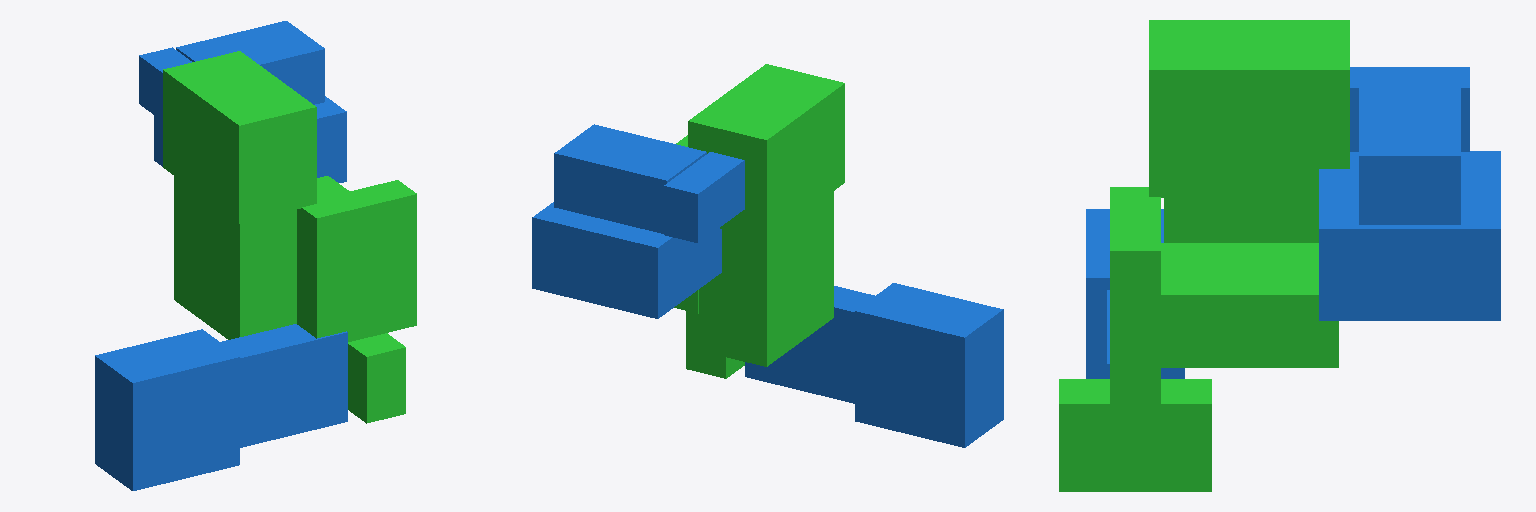
URDF robot description (robot):
<robot name = "robot">
    <link name="Link0">
        <inertial>
            <origin xyz="0 0 2" rpy="0 0 0"/>
            <mass value="0.5128304078562345" />
            <inertia ixx="100" ixy="0" ixz="0" iyy="100" iyz="0" izz="100" />
        </inertial>
        <visual>
            <origin xyz="0 0 2" rpy="0 0 0"/>
            <geometry>
                <box size="0.9570551786748137 0.5830084769159914 0.91909821232701" />
            </geometry>
            <material name="No Sensor">
                <color rgba="0.184 0.553 0.933 1.0"/>
            </material>
        </visual>
        <collision>
            <origin xyz="0 0 2" rpy="0 0 0"/>
            <geometry>
                <box size="0.9570551786748137 0.5830084769159914 0.91909821232701" />
            </geometry>
        </collision>
    </link>
    <joint name="Link0_Link1" type="revolute">
       <parent link="Link0"/>
       <child  link="Link1"/>
       <origin rpy="0 0 0" xyz="0.47852758933740686 0 2" />
       <axis xyz="1 0 0"/>
       <limit effort="0.0" lower="-3.14159" upper="3.14159" velocity="0.0"/>
    </joint>
    <link name="Link1">
        <inertial>
            <origin xyz="0.5147755440734005 0 0" rpy="0 0 0"/>
            <mass value="0.2635844339542847" />
            <inertia ixx="100" ixy="0" ixz="0" iyy="100" iyz="0" izz="100" />
        </inertial>
        <visual>
            <origin xyz="0.5147755440734005 0 0" rpy="0 0 0"/>
            <geometry>
                <box size="1.029551088146801 0.33657611869611215 0.7606564625707463" />
            </geometry>
            <material name="No Sensor">
                <color rgba="0.184 0.553 0.933 1.0"/>
            </material>
        </visual>
        <collision>
            <origin xyz="0.5147755440734005 0 0" rpy="0 0 0"/>
            <geometry>
                <box size="1.029551088146801 0.33657611869611215 0.7606564625707463" />
            </geometry>
        </collision>
    </link>
    <joint name="Link1_Link2" type="revolute">
       <parent link="Link1"/>
       <child  link="Link2"/>
       <origin rpy="0 0 0" xyz="1.029551088146801 0.0 0.0" />
       <axis xyz="0 0 1"/>
       <limit effort="0.0" lower="-3.14159" upper="3.14159" velocity="0.0"/>
    </joint>
    <link name="Link2">
        <inertial>
            <origin xyz="0.17683718103195284 0.0 0.0" rpy="0 0 0"/>
            <mass value="0.1798941925775253" />
            <inertia ixx="100" ixy="0" ixz="0" iyy="100" iyz="0" izz="100" />
        </inertial>
        <visual>
            <origin xyz="0.17683718103195284 0.0 0.0" rpy="0 0 0"/>
            <geometry>
                <box size="0.3536743620639057 0.8994615057501819 0.5654978825073803" />
            </geometry>
            <material name="Sensor">
                <color rgba="0.239 0.875 0.282 1.0"/>
            </material>
        </visual>
        <collision>
            <origin xyz="0.17683718103195284 0.0 0.0" rpy="0 0 0"/>
            <geometry>
                <box size="0.3536743620639057 0.8994615057501819 0.5654978825073803" />
            </geometry>
        </collision>
    </link>
    <joint name="Link2_Link3" type="revolute">
       <parent link="Link2"/>
       <child  link="Link3"/>
       <origin rpy="0 0 0" xyz="0.17683718103195284 0.0 0.28274894125369016" />
       <axis xyz="0 1 0"/>
       <limit effort="0.0" lower="-3.14159" upper="3.14159" velocity="0.0"/>
    </joint>
    <link name="Link3">
        <inertial>
            <origin xyz="0.0 0.0 0.5584981985100145" rpy="0 0 0"/>
            <mass value="0.2979679032425855" />
            <inertia ixx="100" ixy="0" ixz="0" iyy="100" iyz="0" izz="100" />
        </inertial>
        <visual>
            <origin xyz="0.0 0.0 0.5584981985100145" rpy="0 0 0"/>
            <geometry>
                <box size="0.893501190424533 0.2985537820684181 1.116996397020029" />
            </geometry>
            <material name="Sensor">
                <color rgba="0.239 0.875 0.282 1.0"/>
            </material>
        </visual>
        <collision>
            <origin xyz="0.0 0.0 0.5584981985100145" rpy="0 0 0"/>
            <geometry>
                <box size="0.893501190424533 0.2985537820684181 1.116996397020029" />
            </geometry>
        </collision>
    </link>
    <joint name="Link3_Link4" type="revolute">
       <parent link="Link3"/>
       <child  link="Link4"/>
       <origin rpy="0 0 0" xyz="0.0 0.14927689103420905 0.5584981985100145" />
       <axis xyz="1 0 0"/>
       <limit effort="0.0" lower="-3.14159" upper="3.14159" velocity="0.0"/>
    </joint>
    <link name="Link4">
        <inertial>
            <origin xyz="0.0 0.5217765943137762 0.0" rpy="0 0 0"/>
            <mass value="0.3621835287562734" />
            <inertia ixx="100" ixy="0" ixz="0" iyy="100" iyz="0" izz="100" />
        </inertial>
        <visual>
            <origin xyz="0.0 0.5217765943137762 0.0" rpy="0 0 0"/>
            <geometry>
                <box size="0.7281592550120661 1.0435531886275524 0.47663697816785" />
            </geometry>
            <material name="Sensor">
                <color rgba="0.239 0.875 0.282 1.0"/>
            </material>
        </visual>
        <collision>
            <origin xyz="0.0 0.5217765943137762 0.0" rpy="0 0 0"/>
            <geometry>
                <box size="0.7281592550120661 1.0435531886275524 0.47663697816785" />
            </geometry>
        </collision>
    </link>
    <joint name="Link4_Link5" type="revolute">
       <parent link="Link4"/>
       <child  link="Link5"/>
       <origin rpy="0 0 0" xyz="-0.36407962750603307 0.5217765943137762 0.0" />
       <axis xyz="1 0 0"/>
       <limit effort="0.0" lower="-3.14159" upper="3.14159" velocity="0.0"/>
    </joint>
    <link name="Link5">
        <inertial>
            <origin xyz="-0.2924868711264664 0.0 0.0" rpy="0 0 0"/>
            <mass value="0.6543647797559742" />
            <inertia ixx="100" ixy="0" ixz="0" iyy="100" iyz="0" izz="100" />
        </inertial>
        <visual>
            <origin xyz="-0.2924868711264664 0.0 0.0" rpy="0 0 0"/>
            <geometry>
                <box size="0.5849737422529327 1.0137749232114304 1.1034229165541922" />
            </geometry>
            <material name="Sensor">
                <color rgba="0.239 0.875 0.282 1.0"/>
            </material>
        </visual>
        <collision>
            <origin xyz="-0.2924868711264664 0.0 0.0" rpy="0 0 0"/>
            <geometry>
                <box size="0.5849737422529327 1.0137749232114304 1.1034229165541922" />
            </geometry>
        </collision>
    </link>
    <joint name="Link5_Link6" type="revolute">
       <parent link="Link5"/>
       <child  link="Link6"/>
       <origin rpy="0 0 0" xyz="-0.2924868711264664 0.0 0.5517114582770961" />
       <axis xyz="0 0 1"/>
       <limit effort="0.0" lower="-3.14159" upper="3.14159" velocity="0.0"/>
    </joint>
    <link name="Link6">
        <inertial>
            <origin xyz="0.0 0.0 0.4148071494201793" rpy="0 0 0"/>
            <mass value="0.6728458283370262" />
            <inertia ixx="100" ixy="0" ixz="0" iyy="100" iyz="0" izz="100" />
        </inertial>
        <visual>
            <origin xyz="0.0 0.0 0.4148071494201793" rpy="0 0 0"/>
            <geometry>
                <box size="0.6871238648457362 1.1803323300063635 0.8296142988403586" />
            </geometry>
            <material name="Sensor">
                <color rgba="0.239 0.875 0.282 1.0"/>
            </material>
        </visual>
        <collision>
            <origin xyz="0.0 0.0 0.4148071494201793" rpy="0 0 0"/>
            <geometry>
                <box size="0.6871238648457362 1.1803323300063635 0.8296142988403586" />
            </geometry>
        </collision>
    </link>
    <joint name="Link6_Link7" type="revolute">
       <parent link="Link6"/>
       <child  link="Link7"/>
       <origin rpy="0 0 0" xyz="0.0 0.5901661650031818 0.4148071494201793" />
       <axis xyz="0 0 1"/>
       <limit effort="0.0" lower="-3.14159" upper="3.14159" velocity="0.0"/>
    </joint>
    <link name="Link7">
        <inertial>
            <origin xyz="0.0 0.3514306689775033 0.0" rpy="0 0 0"/>
            <mass value="0.0862759623123585" />
            <inertia ixx="100" ixy="0" ixz="0" iyy="100" iyz="0" izz="100" />
        </inertial>
        <visual>
            <origin xyz="0.0 0.3514306689775033 0.0" rpy="0 0 0"/>
            <geometry>
                <box size="0.2990974814309052 0.7028613379550066 0.410400046327681" />
            </geometry>
            <material name="No Sensor">
                <color rgba="0.184 0.553 0.933 1.0"/>
            </material>
        </visual>
        <collision>
            <origin xyz="0.0 0.3514306689775033 0.0" rpy="0 0 0"/>
            <geometry>
                <box size="0.2990974814309052 0.7028613379550066 0.410400046327681" />
            </geometry>
        </collision>
    </link>
    <joint name="Link7_Link8" type="revolute">
       <parent link="Link7"/>
       <child  link="Link8"/>
       <origin rpy="0 0 0" xyz="0.1495487407154526 0.3514306689775033 0.0" />
       <axis xyz="0 1 0"/>
       <limit effort="0.0" lower="-3.14159" upper="3.14159" velocity="0.0"/>
    </joint>
    <link name="Link8">
        <inertial>
            <origin xyz="0.4914122234607243 0.0 0.0" rpy="0 0 0"/>
            <mass value="0.26488314626313003" />
            <inertia ixx="100" ixy="0" ixz="0" iyy="100" iyz="0" izz="100" />
        </inertial>
        <visual>
            <origin xyz="0.4914122234607243 0.0 0.0" rpy="0 0 0"/>
            <geometry>
                <box size="0.9828244469214485 0.5973526679306684 0.45117763970615266" />
            </geometry>
            <material name="No Sensor">
                <color rgba="0.184 0.553 0.933 1.0"/>
            </material>
        </visual>
        <collision>
            <origin xyz="0.4914122234607243 0.0 0.0" rpy="0 0 0"/>
            <geometry>
                <box size="0.9828244469214485 0.5973526679306684 0.45117763970615266" />
            </geometry>
        </collision>
    </link>
    <joint name="Link8_Link9" type="revolute">
       <parent link="Link8"/>
       <child  link="Link9"/>
       <origin rpy="0 0 0" xyz="0.4914122234607243 0.0 -0.22558881985307633" />
       <axis xyz="0 0 1"/>
       <limit effort="0.0" lower="-3.14159" upper="3.14159" velocity="0.0"/>
    </joint>
    <link name="Link9">
        <inertial>
            <origin xyz="0.0 0.0 -0.2968233454277896" rpy="0 0 0"/>
            <mass value="0.6927115145744699" />
            <inertia ixx="100" ixy="0" ixz="0" iyy="100" iyz="0" izz="100" />
        </inertial>
        <visual>
            <origin xyz="0.0 0.0 -0.2968233454277896" rpy="0 0 0"/>
            <geometry>
                <box size="1.092788034064323 1.0677963318022827 0.5936466908555792" />
            </geometry>
            <material name="No Sensor">
                <color rgba="0.184 0.553 0.933 1.0"/>
            </material>
        </visual>
        <collision>
            <origin xyz="0.0 0.0 -0.2968233454277896" rpy="0 0 0"/>
            <geometry>
                <box size="1.092788034064323 1.0677963318022827 0.5936466908555792" />
            </geometry>
        </collision>
    </link>
</robot>

--- What the picture shows (computed from the rendered views, not written in the file) ---
3 views of the same robot in one strip: view 1: azimuth 30°, elevation 25°; view 2: azimuth 150°, elevation 25°; view 3: azimuth 270°, elevation 25° (orthographic).
Robot: robot — 10 links, 9 joints (9 revolute); root link Link0; default pose: every joint at zero.
Visible links, largest first — view 1: Link6, Link0, Link3, Link5, Link1, Link8, Link2, Link9, Link7; view 2: Link0, Link6, Link5, Link9, Link8, Link1, Link7, Link2; view 3: Link6, Link9, Link4, Link2, Link8, Link3, Link5, Link0, Link7.
Link boxes in pixels (<box>): Link6: <box>163,51,316,223</box>; Link0: <box>95,329,239,490</box>; Link3: <box>297,180,416,341</box>; Link5: <box>174,176,296,339</box>; Link1: <box>221,324,347,447</box>; Link8: <box>176,21,324,104</box>; Link2: <box>348,333,405,423</box>; Link9: <box>154,96,346,182</box>; Link7: <box>139,47,191,120</box>; Link0: <box>855,283,1003,447</box>; Link6: <box>688,64,844,239</box>; Link5: <box>699,191,833,366</box>; Link9: <box>532,202,721,318</box>; Link8: <box>554,124,706,233</box>; Link1: <box>745,286,874,403</box>; Link7: <box>664,152,744,242</box>; Link2: <box>686,311,744,378</box>; Link6: <box>1149,20,1349,197</box>; Link9: <box>1319,151,1500,320</box>; Link4: <box>1161,243,1338,367</box>; Link2: <box>1059,379,1211,491</box>; Link8: <box>1359,85,1460,224</box>; Link3: <box>1110,187,1160,423</box>; Link5: <box>1164,198,1318,242</box>; Link0: <box>1086,209,1184,378</box>; Link7: <box>1350,67,1469,151</box>.
Bounding box of the posed robot: 2.69 × 2.6 × 2.68 m (x, y, z).
Geometry: primitives only (box / cylinder / sphere), no mesh files.